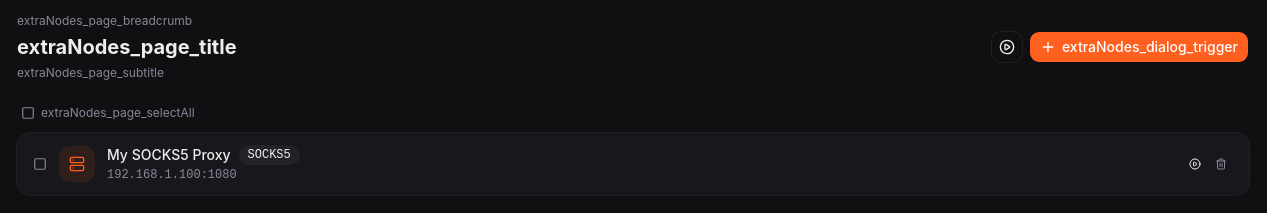
Test: ExtraNodesPage › Node Selection › allows selecting nodes via checkbox
// Click the card to select it
Click the text "My SOCKS5 Proxy" at (169, 155), box [107,145,230,165]
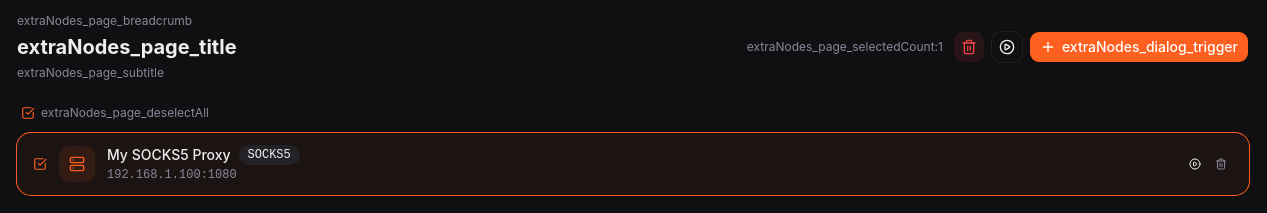
expect the text "extraNodes_page_selectedCount:1" is shown: met, box [747,39,943,55]
